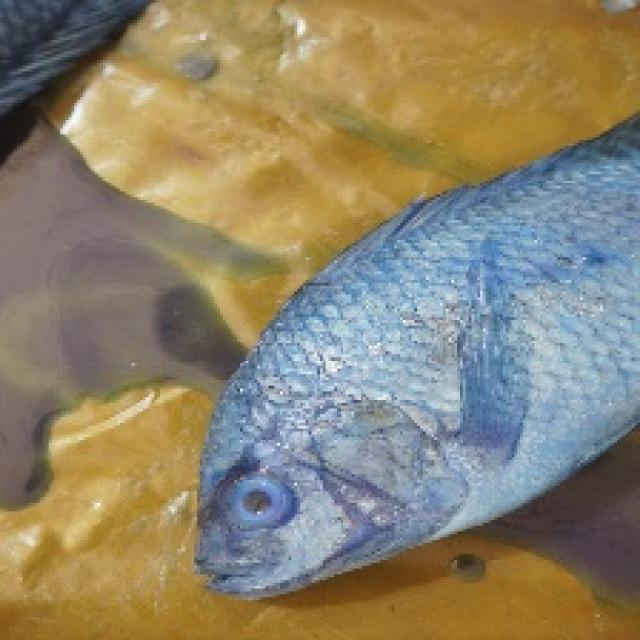Non-Fresh: (187, 188, 534, 623), (220, 468, 302, 536)
